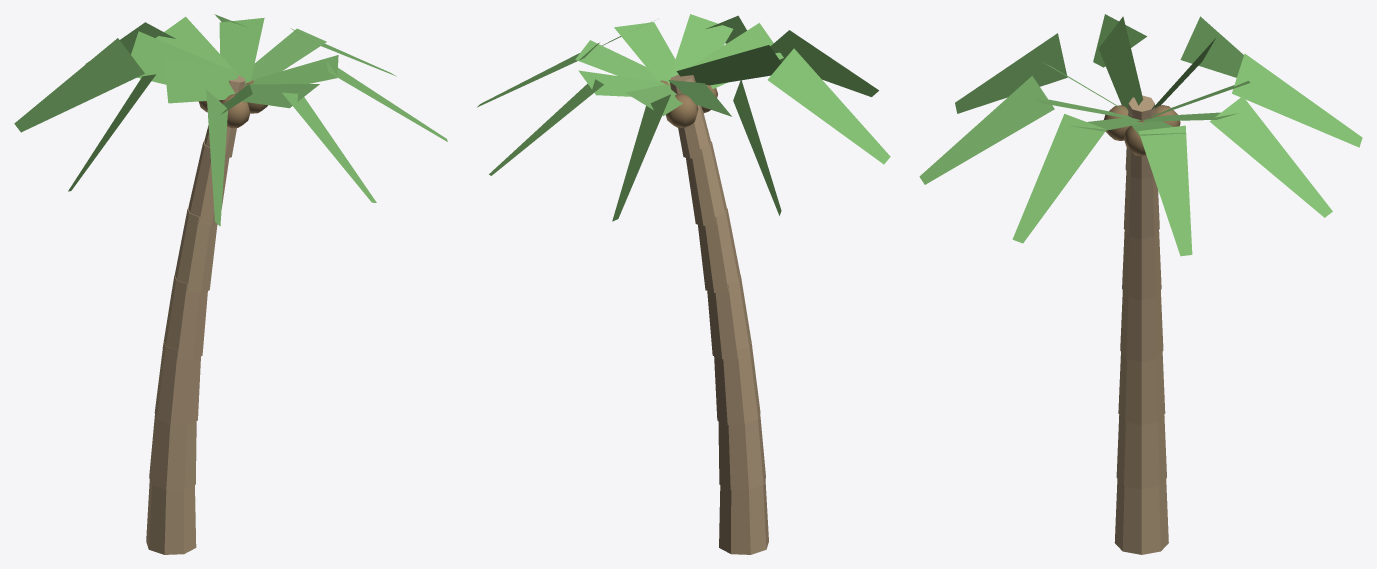
Rendered from palm.glb.
3 renders of one model, left to right at view 1: azimuth 30°, elevation 25°; view 2: azimuth 150°, elevation 25°; view 3: azimuth 270°, elevation 25°, orthographic. The views are drawn at different scales.
Visible parts, largest first — view 1: palm; view 2: palm; view 3: palm.
Part boxes in pixels (x1=…): palm: x1=14, y1=14, x2=447, y2=554; palm: x1=477, y1=14, x2=890, y2=554; palm: x1=919, y1=14, x2=1362, y2=554.
Bounding box in the file's own units: 1.48 × 1.91 × 1.48.
